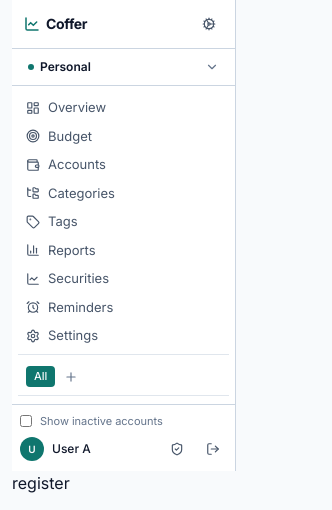
Test: AuthedSidebar › the Overview destination opens this ledger's Hub
Expected: the text "register" is shown, [12,473,70,493]
Click the link "Overview" at [66, 107], box [26,99,106,115]
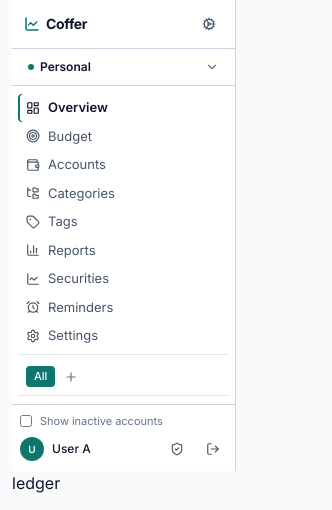
Expected: the text "ledger" is shown, [12,473,60,493]
